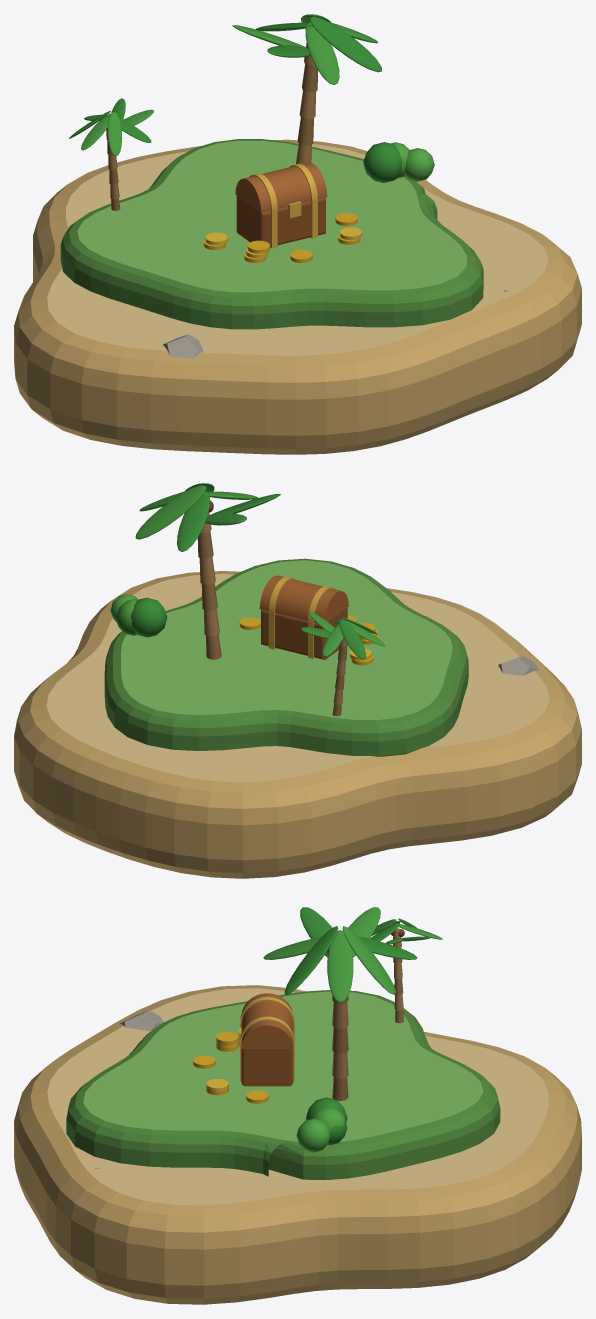
File: treasure.glb
3 renders of one model, top to bottom at view 1: azimuth 30°, elevation 25°; view 2: azimuth 150°, elevation 25°; view 3: azimuth 270°, elevation 25°, orthographic. The views are drawn at different scales.
Visible parts, largest first — view 1: part_000, part_002, part_003, part_005, part_006, part_007; view 2: part_000, part_003, part_002, part_005, part_006, part_007; view 3: part_000, part_003, part_002, part_006, part_005, part_007.
Part boxes in pixels (x1=…): part_000: x1=14, y1=139, x2=581, y2=454; part_002: x1=203, y1=162, x2=362, y2=262; part_003: x1=232, y1=14, x2=381, y2=164; part_005: x1=69, y1=98, x2=154, y2=210; part_006: x1=363, y1=142, x2=434, y2=182; part_007: x1=163, y1=334, x2=203, y2=358; part_000: x1=14, y1=558, x2=581, y2=878; part_003: x1=135, y1=483, x2=280, y2=659; part_002: x1=239, y1=575, x2=378, y2=665; part_005: x1=301, y1=611, x2=384, y2=716; part_006: x1=110, y1=594, x2=167, y2=637; part_007: x1=498, y1=656, x2=539, y2=675; part_000: x1=14, y1=985, x2=581, y2=1304; part_003: x1=263, y1=907, x2=417, y2=1100; part_002: x1=193, y1=993, x2=294, y2=1103; part_006: x1=296, y1=1097, x2=347, y2=1152; part_005: x1=370, y1=918, x2=442, y2=1023; part_007: x1=120, y1=1010, x2=163, y2=1031.
Bounding box in the file's own units: 8.75 × 5.01 × 8.55.
